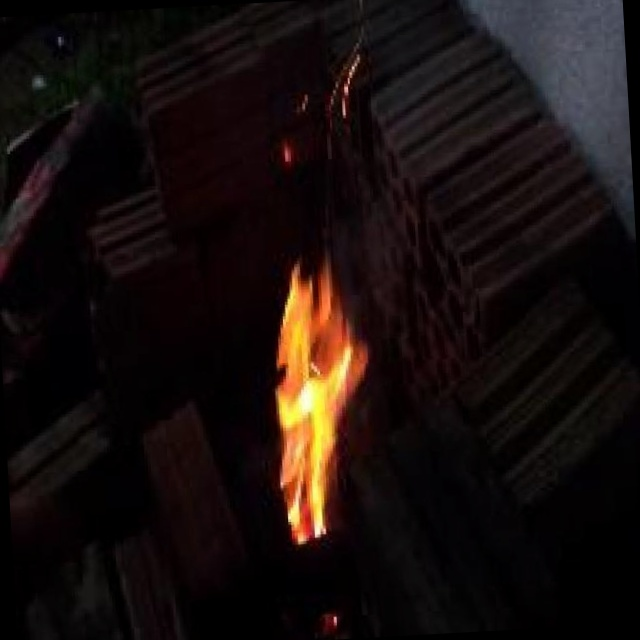fire: (209, 148, 423, 577)
